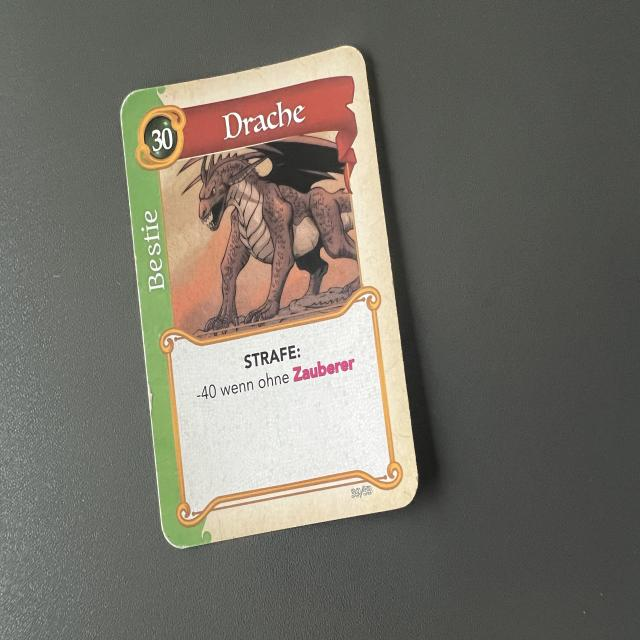Dragon: (116, 40, 425, 552)
